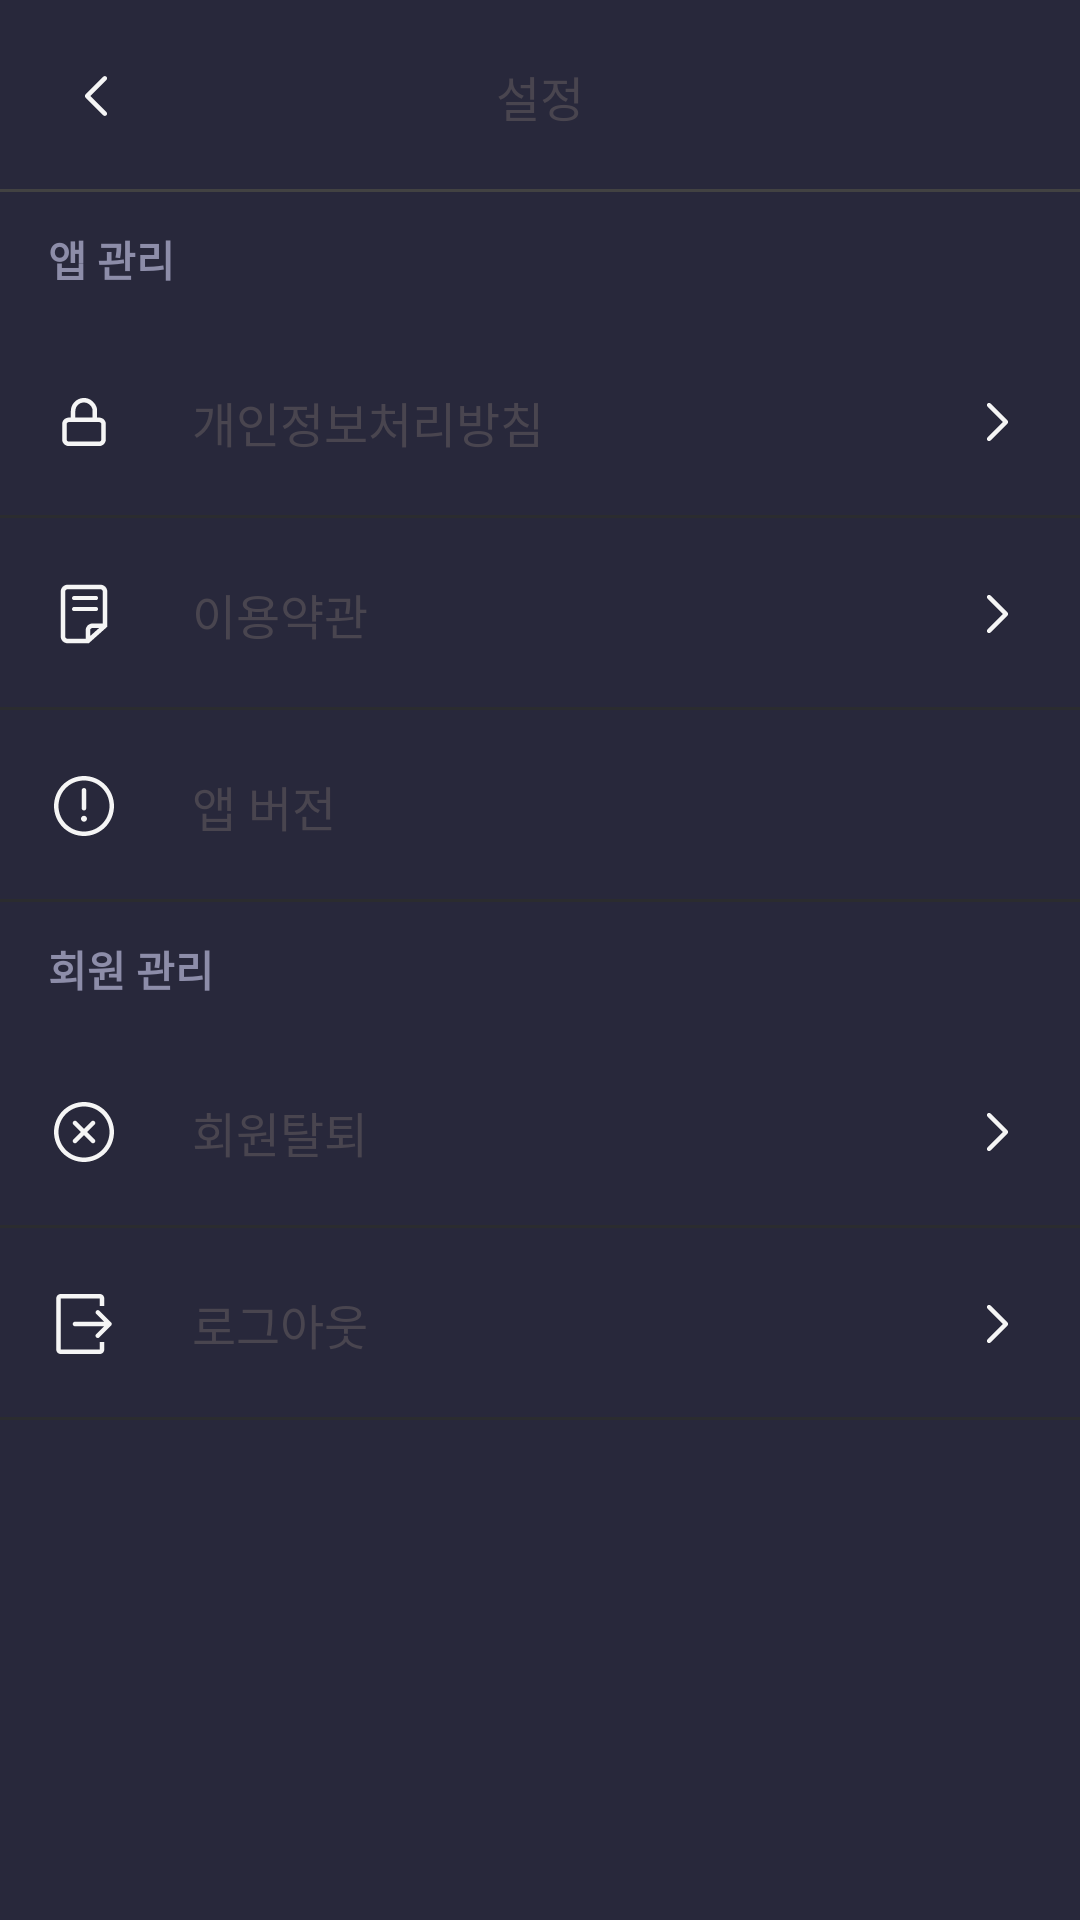

Named icons in this screenshot (1080×1920) and their centers, (x,y):
arrow left: (96,96)
arrow right: (997,422), (997,614), (997,1132), (997,1324)
exit: (84,1324)
locked: (84,422)
note: (84,614)
remove circle: (84,1132)
warning circle: (84,806)
